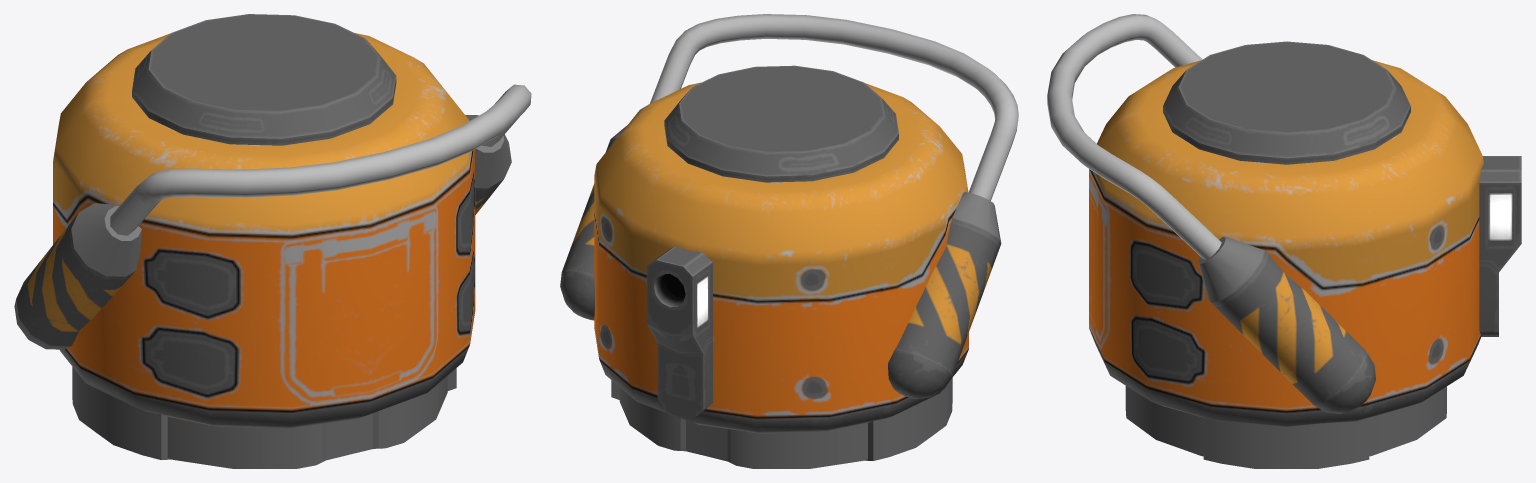
The model's file is IG_Helmat_Battery.fbx.
3 views of the same model, side by side, from view 1: azimuth 30°, elevation 25°; view 2: azimuth 150°, elevation 25°; view 3: azimuth 270°, elevation 25° (orthographic). The views are drawn at different scales.
Parts seen in each view (by area): view 1: Model, IG_Helmat_Battery; view 2: Model, IG_Helmat_Battery; view 3: Model, IG_Helmat_Battery.
Part boxes in pixels (box(x1,y1,x2,y2)): Model: box(14, 14, 531, 428); IG_Helmat_Battery: box(72, 367, 456, 468); Model: box(560, 14, 1018, 433); IG_Helmat_Battery: box(611, 378, 952, 468); Model: box(1047, 14, 1521, 426); IG_Helmat_Battery: box(1125, 386, 1446, 468).
Bounding box in the file's own units: 0.9464 × 0.706 × 0.962.
